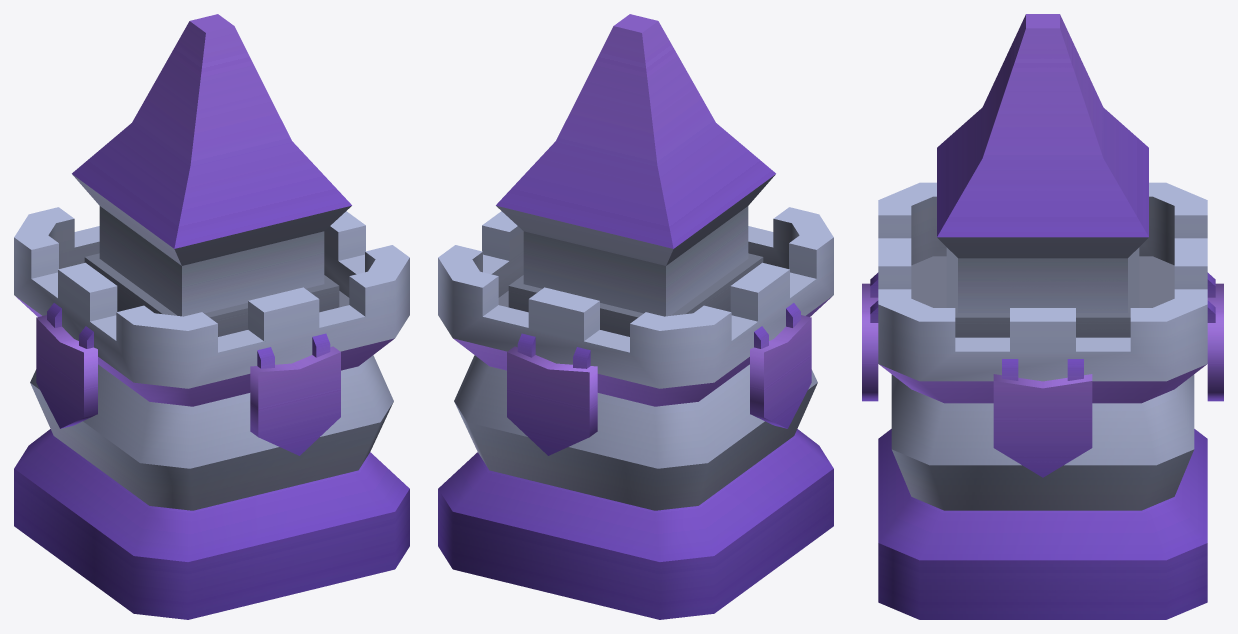
The model's file is kenney-tower-defense-tower-square-build-d.glb.
3 renders of one model, left to right at view 1: azimuth 30°, elevation 25°; view 2: azimuth 150°, elevation 25°; view 3: azimuth 270°, elevation 25°, orthographic. The views are drawn at different scales.
Visible parts, largest first — view 1: tower-square-build-d; view 2: tower-square-build-d; view 3: tower-square-build-d.
Boxes of the visible parts, <box> form: tower-square-build-d: <box>14,14,409,619</box>; tower-square-build-d: <box>438,14,833,619</box>; tower-square-build-d: <box>862,14,1223,619</box>.
Size of the model in its own units: 1.1 by 1.77 by 1.1.
1 material, 1 textured.
